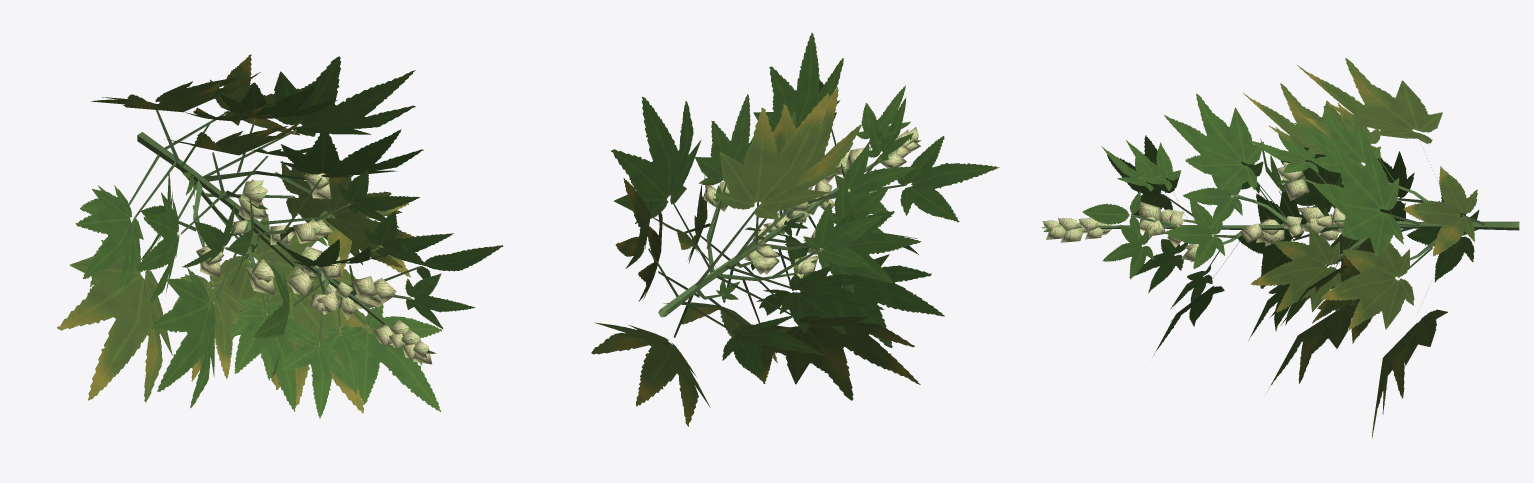
Rendered from p_male_tree_ripe_c0_cards.obj.
The picture shows the model from 3 angles, left to right: view 1: azimuth 30°, elevation 25°; view 2: azimuth 150°, elevation 25°; view 3: azimuth 270°, elevation 25°; orthographic projection. The views are drawn at different scales.
Bounding box in the file's own units: 1.32 × 1.29 × 1.5.
1 material, 1 textured.
